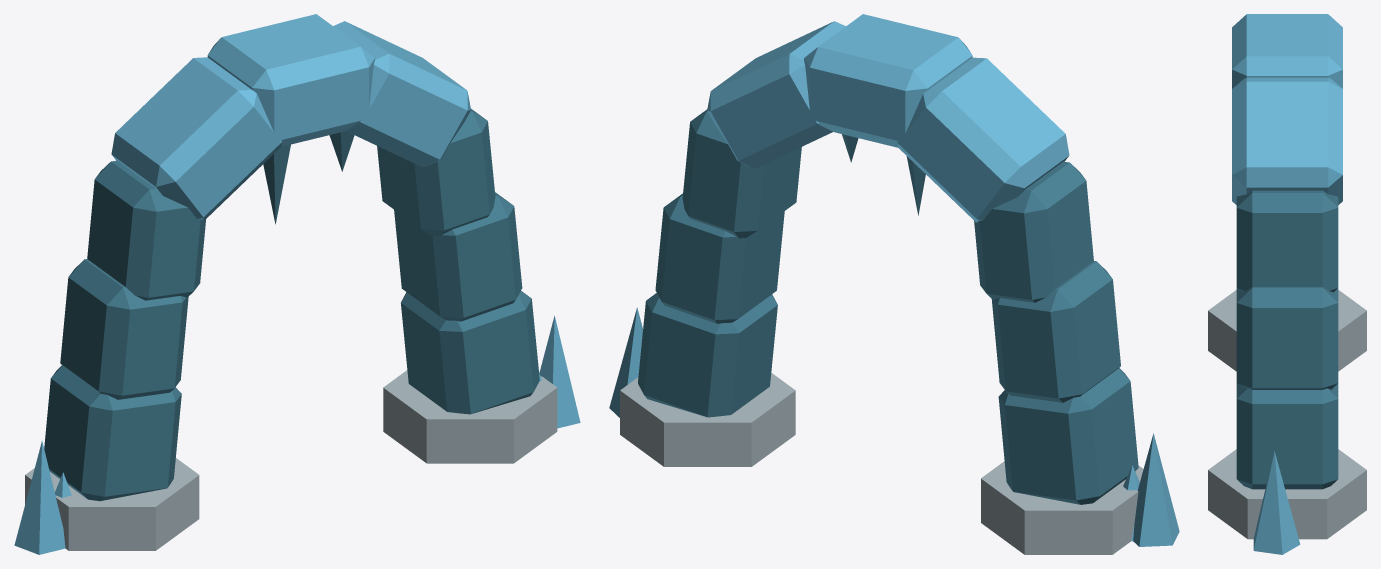
File: Glacial_Ice_Arch.glb
The picture shows the model from 3 angles, left to right: view 1: azimuth 30°, elevation 25°; view 2: azimuth 150°, elevation 25°; view 3: azimuth 270°, elevation 25°; orthographic projection. The views are drawn at different scales.
Visible parts, largest first — view 1: Glacial_Ice_Arch; view 2: Glacial_Ice_Arch; view 3: Glacial_Ice_Arch.
Part boxes in pixels (left/top/right/bottom): Glacial_Ice_Arch: left=14, top=14, right=580, bottom=554; Glacial_Ice_Arch: left=609, top=14, right=1179, bottom=554; Glacial_Ice_Arch: left=1208, top=14, right=1366, bottom=554.
Size of the model in its own units: 3.19 by 2.36 by 0.86.
